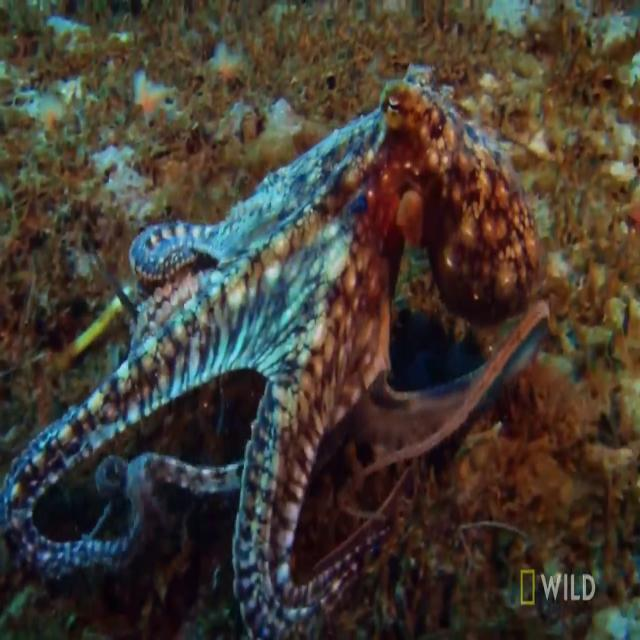octopus: (0, 64, 550, 640)
